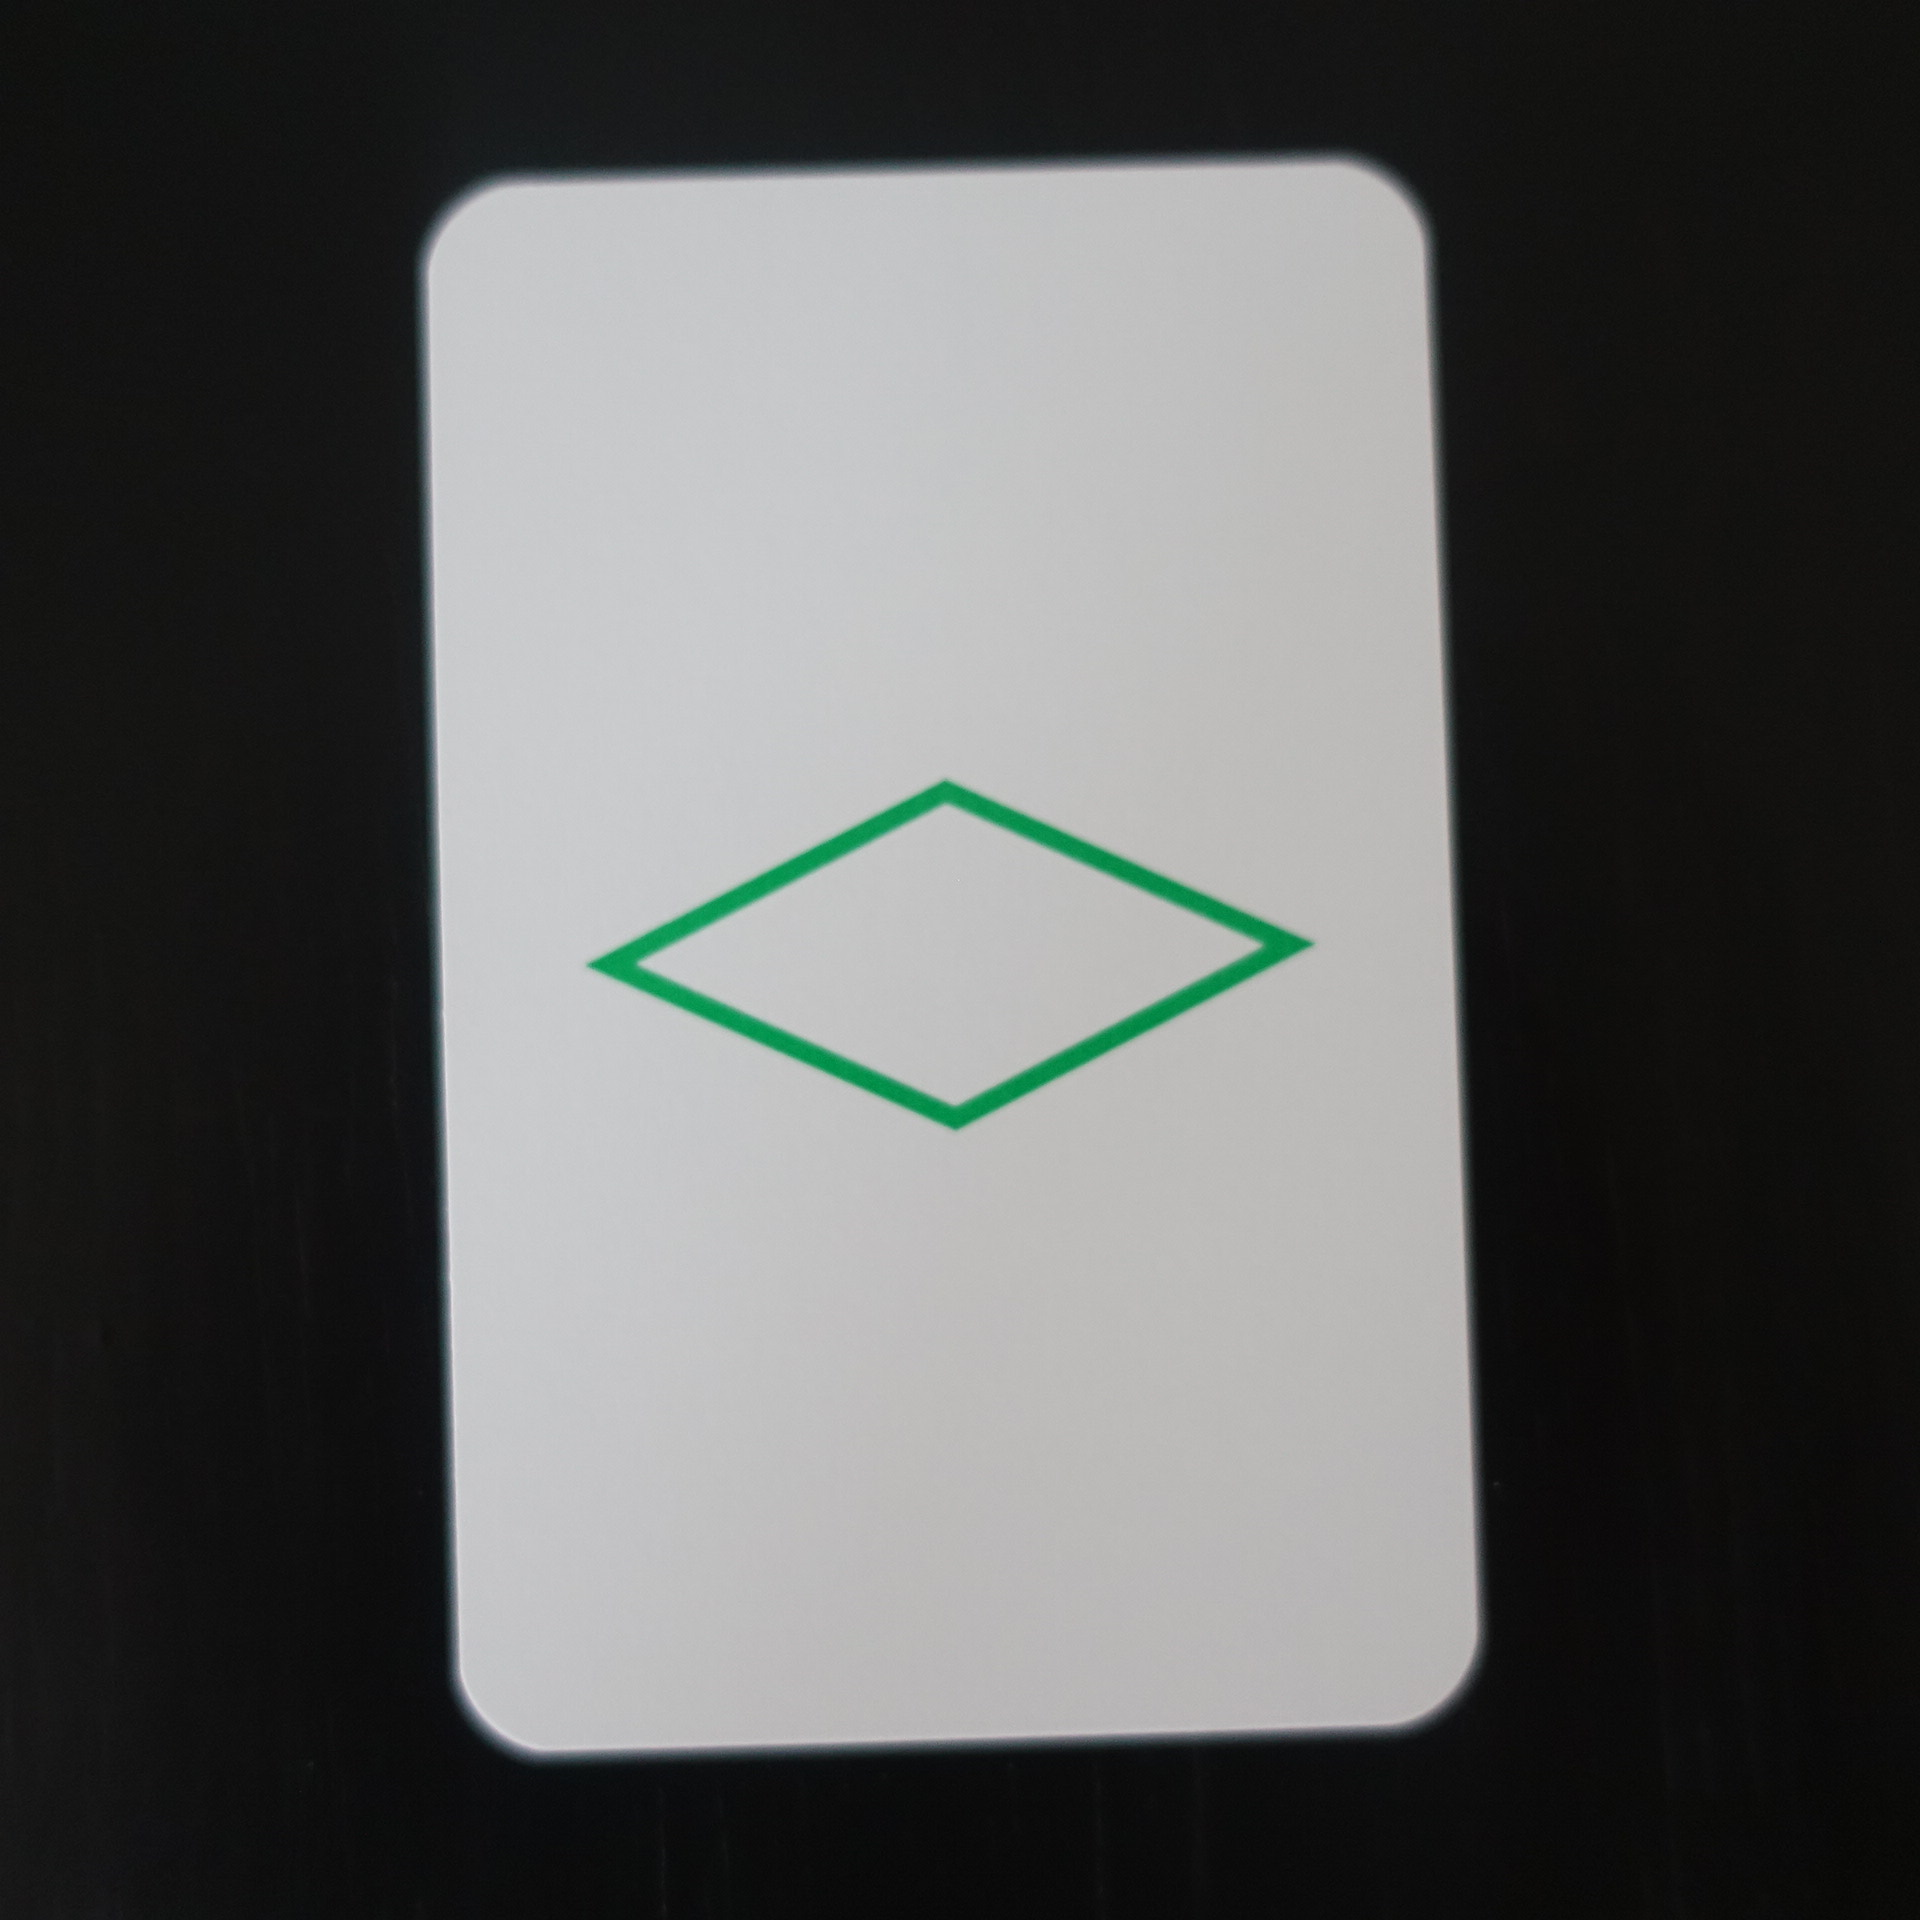c-2-f-d-r: (390, 135, 1516, 1781)
